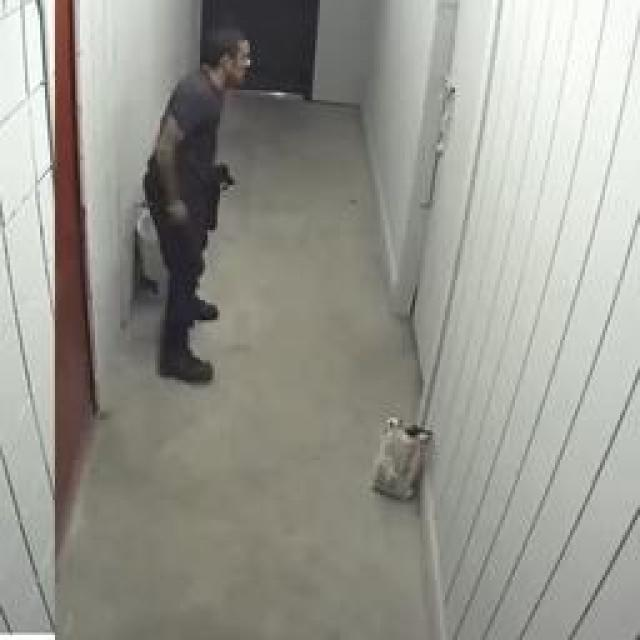person: (122, 10, 278, 398)
